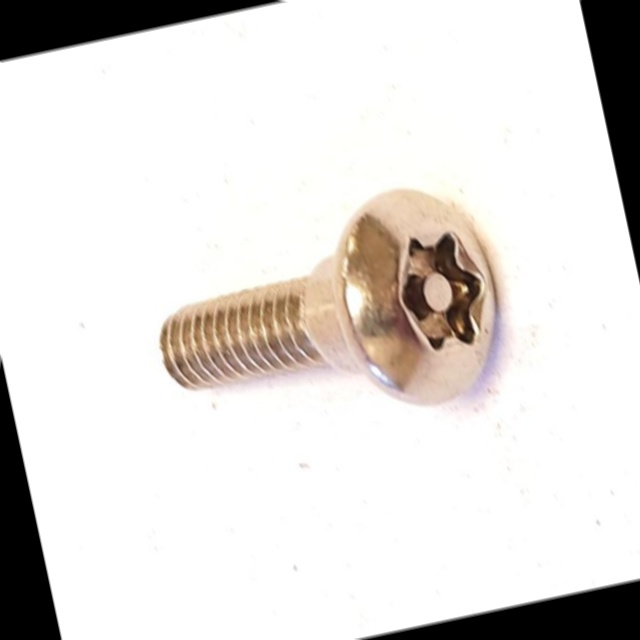torx: (317, 172, 516, 423)
